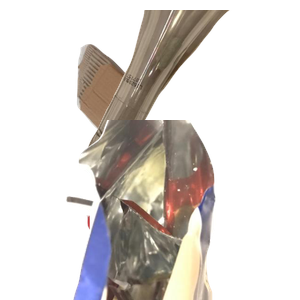cardboard: (74, 42, 225, 170)
glass: (80, 10, 300, 182)
plastic: (84, 191, 242, 300)
trash: (63, 120, 300, 300)
